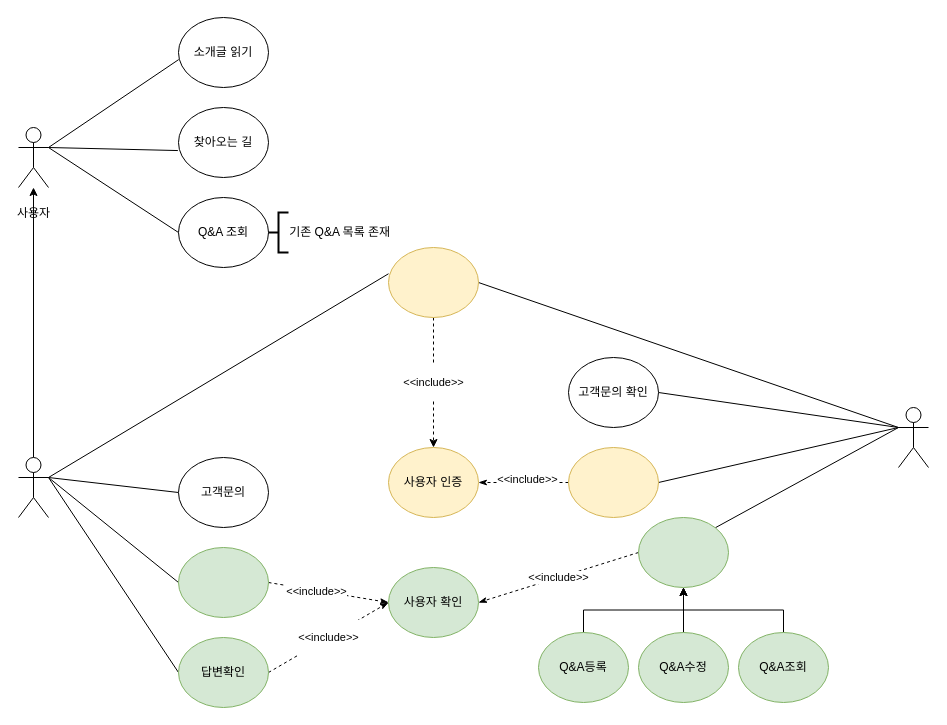
Image size: 947x725. Some labels were removed from this diagram. Each missing label, with the centre of its shape:
Q&A 관리: the point at 683,552
고객문의 답변: the point at 613,482
관리자: the point at 913,437
내 문의내역 조회: the point at 223,582
로그인: the point at 433,282
회원: the point at 33,487
